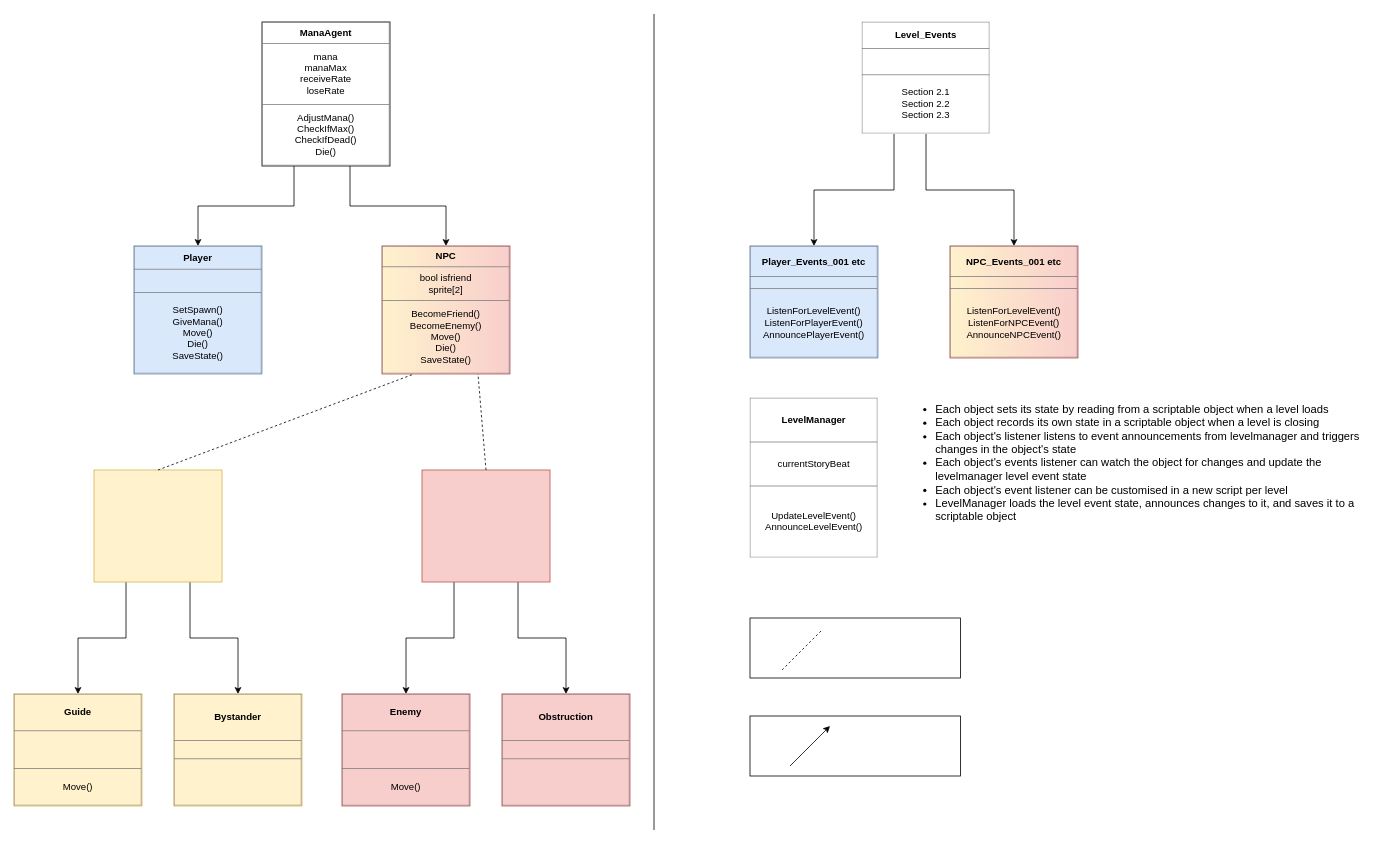
The diagram is 1388 pixels wide and 845 high, and some of its shapes have lost their labels. Here are the shapes that lost their labels. From the top down, the centre of each, then its label:
point 157,525: Friend bool IsFriend IsFriend(bool)
point 485,525: Hazard bool IsHazard IsHazard(bool)
point 854,647: Additional component
point 854,745: Inheritance
